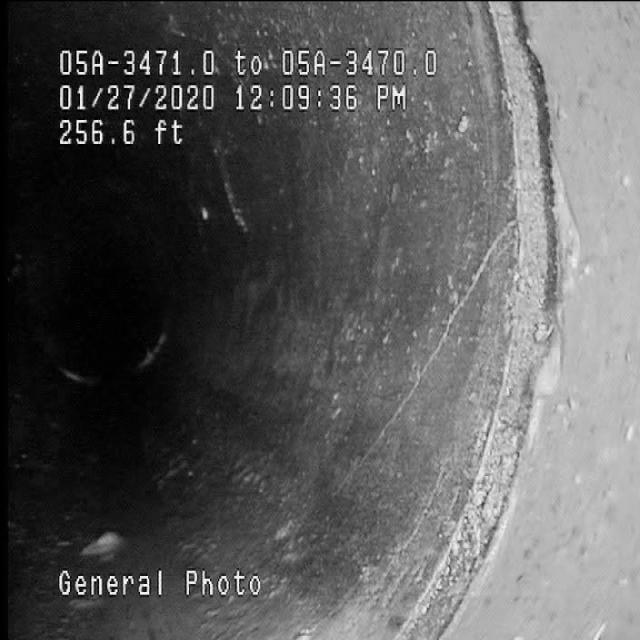Crack: (369, 206, 507, 468)
